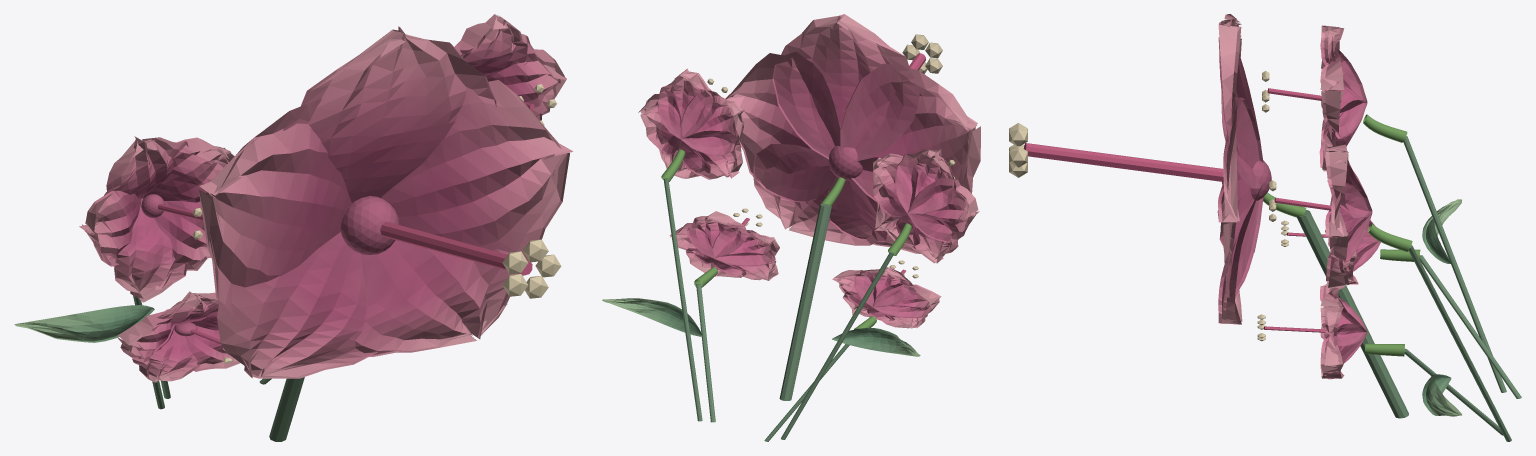
Rendered from ibisco.glb.
The picture shows the model from 3 angles, left to right: view 1: azimuth 30°, elevation 25°; view 2: azimuth 150°, elevation 25°; view 3: azimuth 270°, elevation 25°; orthographic projection. The views are drawn at different scales.
Visible parts, largest first — view 1: PETALO_000, PETALO_001, PETALO_002, PETALO_003, PETALO_004, PETALO_008, PETALO_006, FOGLIA_RAMOSCELLO_0, PETALO_011, PETALO_005, PETALO_007, PETALO_010 (+8 smaller); view 2: PETALO_001, PETALO_002, PETALO_000, PETALO_004, PETALO_012, PETALO_007, PETALO_006, RAMO_0, PETALO_011, PETALO_003, PETALO_013, PETALO_022 (+20 smaller); view 3: PETALO_000, PISTILLO_0, PETALO_005, PETALO_001, RAMO_0, PETALO_010, RAMO_1, PETALO_004, RAMO_2, PETALO_011, PETALO_021, PETALO_020 (+11 smaller).
Part boxes in pixels (x1,y1,x2,y2): PETALO_000: (381,80,572,274); PETALO_001: (283,26,496,202); PETALO_002: (199,98,351,321); PETALO_003: (217,232,377,378); PETALO_004: (355,240,518,356); PETALO_008: (106,200,188,302); PETALO_006: (104,136,188,200); FOGLIA_RAMOSCELLO_0: (14,305,154,342); PETALO_011: (455,14,530,77); PETALO_005: (144,137,234,202); PETALO_007: (79,179,143,266); PETALO_010: (487,42,566,118); PETALO_001: (772,14,919,161); PETALO_002: (840,63,980,202); PETALO_000: (725,51,840,202); PETALO_004: (753,144,887,245); PETALO_012: (680,90,744,155); PETALO_007: (907,177,979,242); PETALO_006: (894,149,956,214); RAMO_0: (779,204,831,400); PETALO_011: (657,68,715,139); PETALO_003: (827,157,958,254); PETALO_013: (678,130,742,179); PETALO_022: (712,227,779,266); PETALO_000: (1218,97,1263,298); PISTILLO_0: (1023,143,1223,181); PETALO_005: (1320,53,1366,138); PETALO_001: (1218,14,1262,188); RAMO_0: (1297,210,1408,418); PETALO_010: (1325,182,1371,263); RAMO_1: (1403,136,1506,392); PETALO_004: (1218,185,1262,324); RAMO_2: (1408,245,1511,441); PETALO_011: (1325,144,1371,217); PETALO_021: (1320,293,1366,346); PETALO_020: (1320,323,1366,373).
Size of the model in its own units: 1.85 by 1.76 by 2.01.
